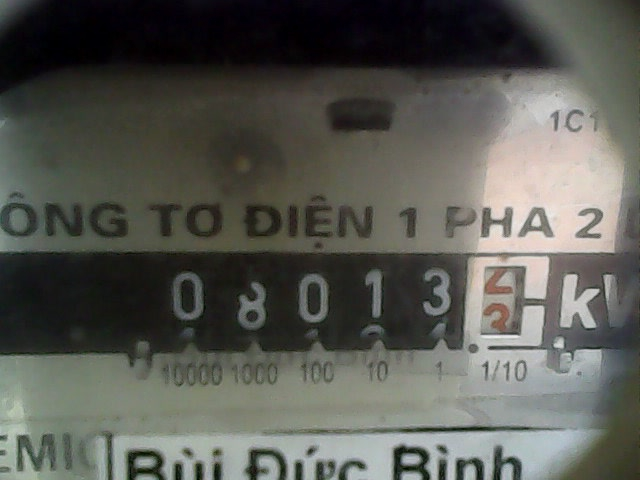phy_plate: (153, 252, 558, 351)
